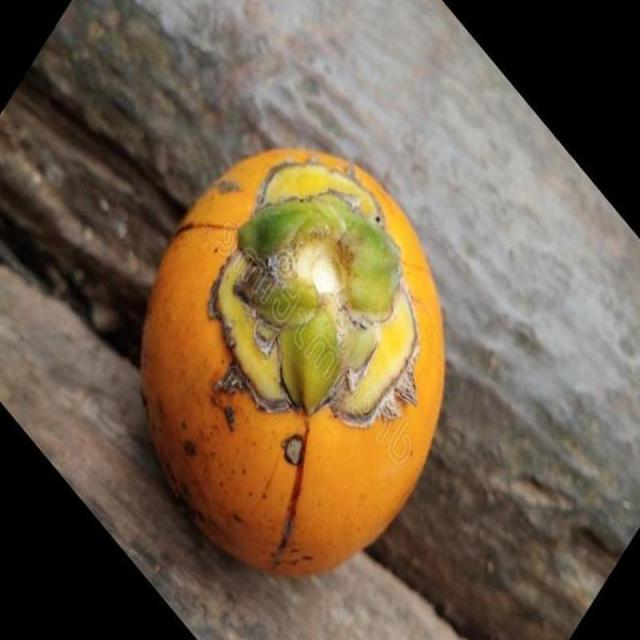good: (138, 148, 446, 579)
